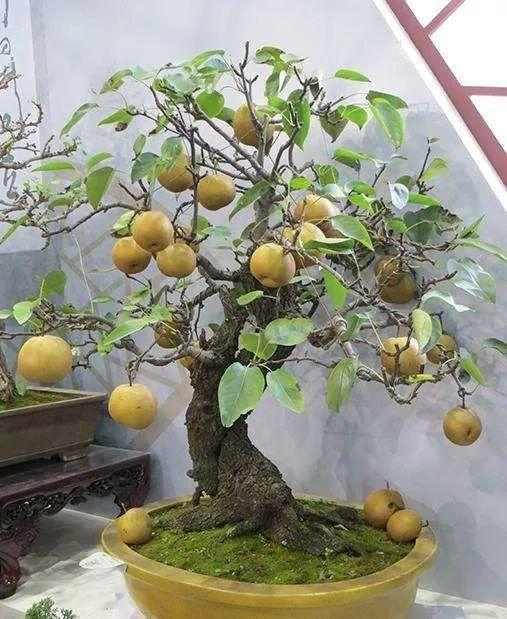apple: (16, 334, 71, 385), (107, 383, 157, 430), (251, 243, 296, 289), (130, 210, 173, 256), (441, 406, 481, 447), (362, 489, 403, 528), (154, 242, 196, 279), (195, 174, 235, 212), (382, 337, 421, 375), (385, 509, 421, 544)
